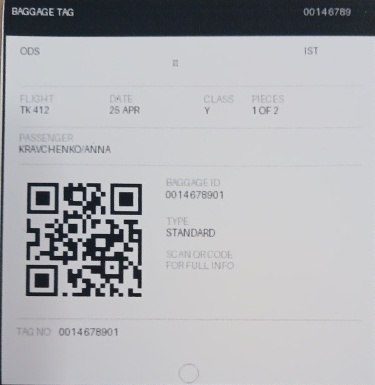LPN_bottom: (55, 324, 123, 339)
LPN_right: (161, 188, 226, 202)
